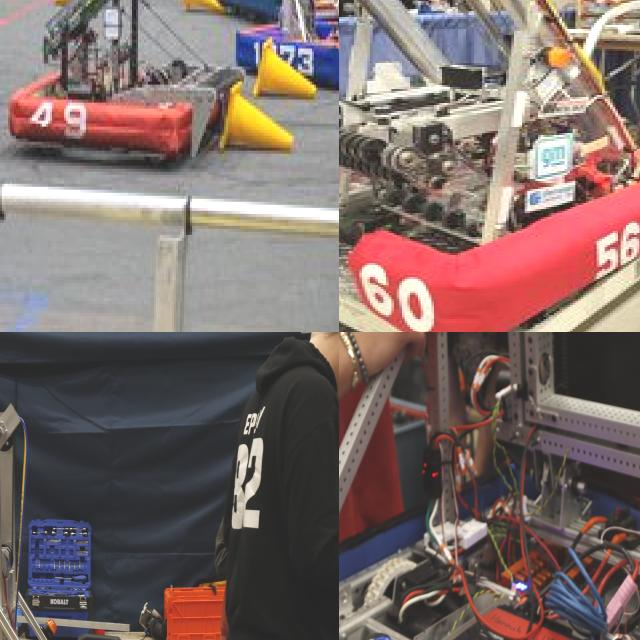FRC-Robots: (339, 0, 640, 321), (339, 332, 640, 640), (0, 0, 274, 205), (0, 463, 206, 640), (257, 0, 339, 171)
